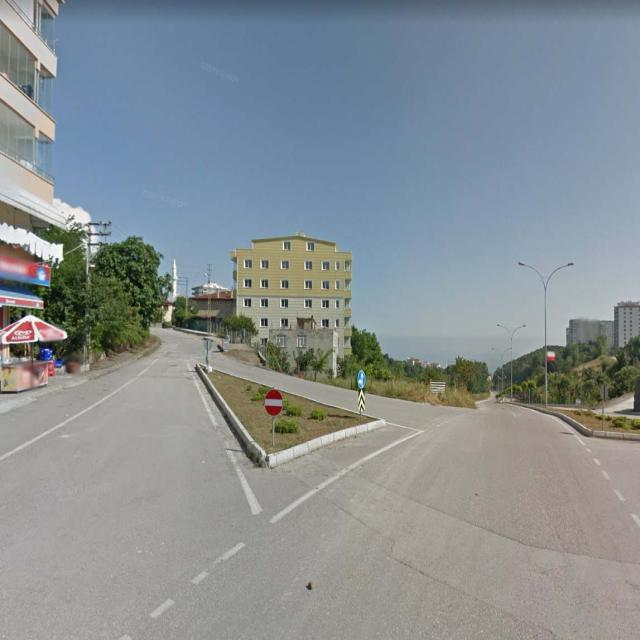girisyok: (265, 389, 283, 416)
ilerisol: (357, 370, 366, 389)
